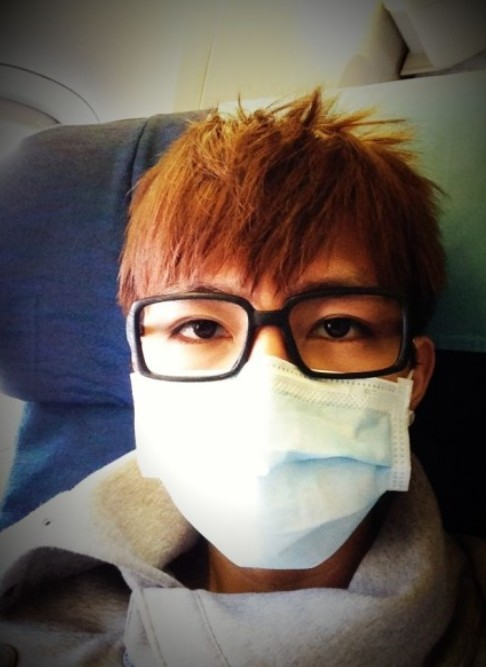face_mask: (142, 241, 405, 566)
